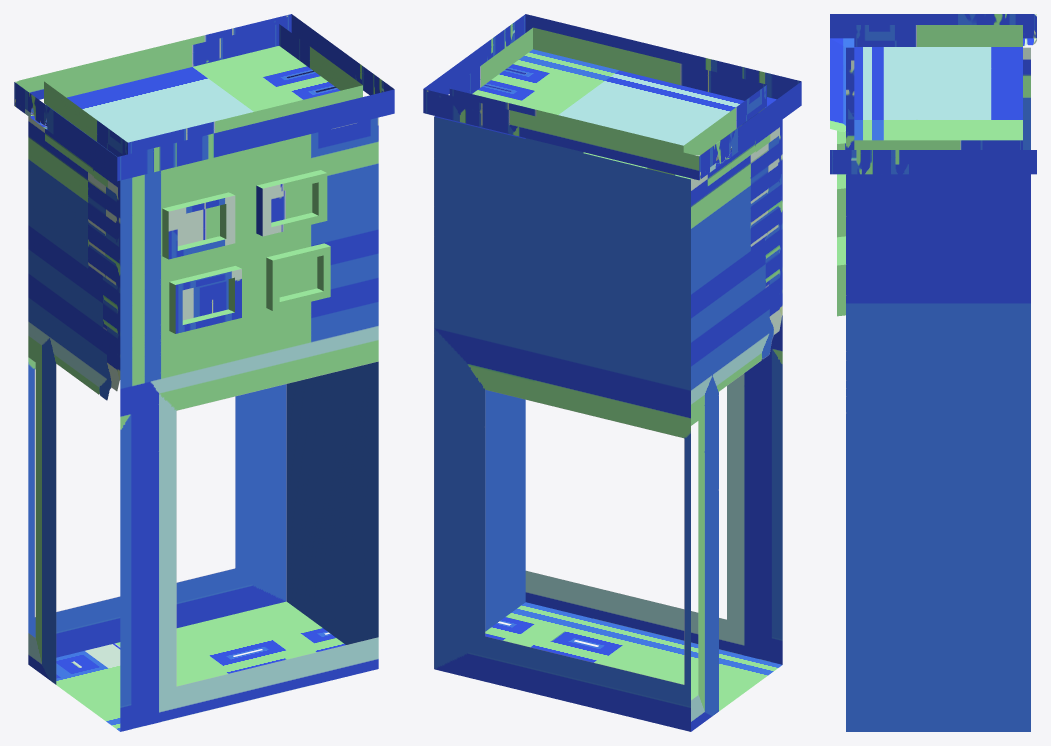
File: building2 1.fbx
The picture shows the model from 3 angles, left to right: view 1: azimuth 30°, elevation 25°; view 2: azimuth 150°, elevation 25°; view 3: azimuth 270°, elevation 25°; orthographic projection.
Parts seen in each view (by area): view 1: BUILDING2; view 2: BUILDING2; view 3: BUILDING2.
Boxes of the visible parts, x1,y1,x2,y2 form: BUILDING2: (14,14,394,731); BUILDING2: (423,14,801,731); BUILDING2: (830,14,1036,731).
Size of the model in its own units: 272 by 546 by 175.
1 material, 1 textured.
